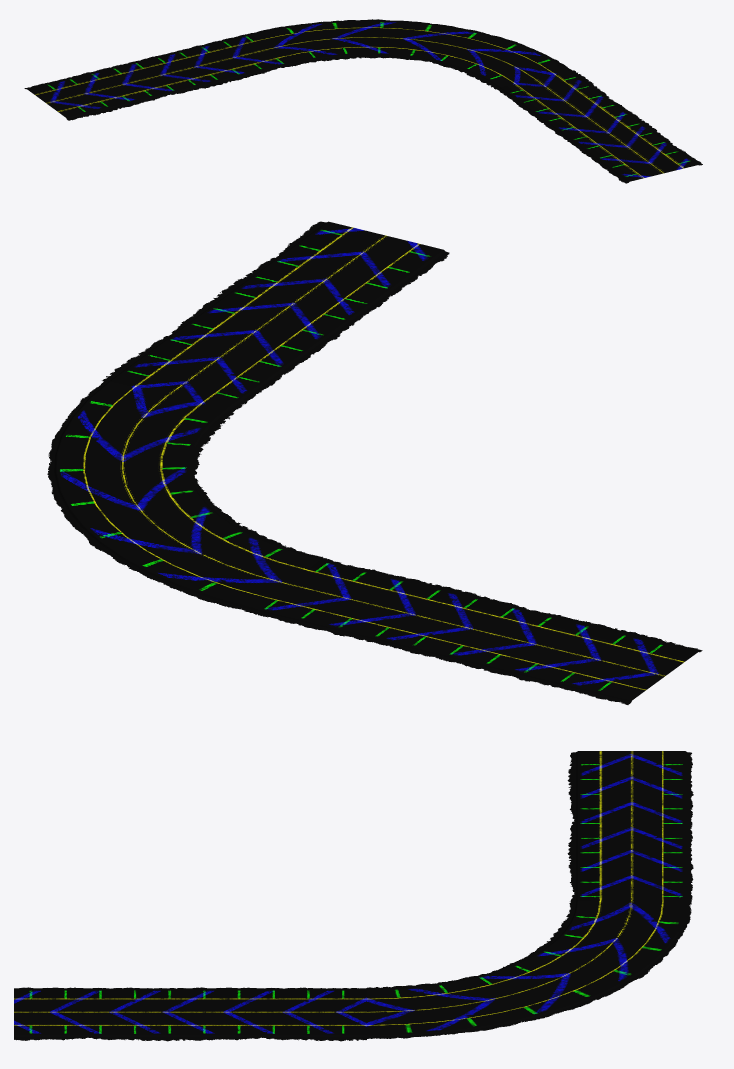
3 renders of one model, top to bottom at view 1: azimuth 30°, elevation 25°; view 2: azimuth 150°, elevation 25°; view 3: azimuth 270°, elevation 25°, orthographic. The views are drawn at different scales.
Parts seen in each view (by area): view 1: SM_Road_Corner_01_LOD0; view 2: SM_Road_Corner_01_LOD0; view 3: SM_Road_Corner_01_LOD0.
Boxes of the visible parts, <box> form: SM_Road_Corner_01_LOD0: <box>24,19,702,183</box>; SM_Road_Corner_01_LOD0: <box>47,221,702,704</box>; SM_Road_Corner_01_LOD0: <box>14,751,693,1041</box>.
Bounding box in the file's own units: 8000 × 8000 × 67.66.
1 material, 1 textured.
